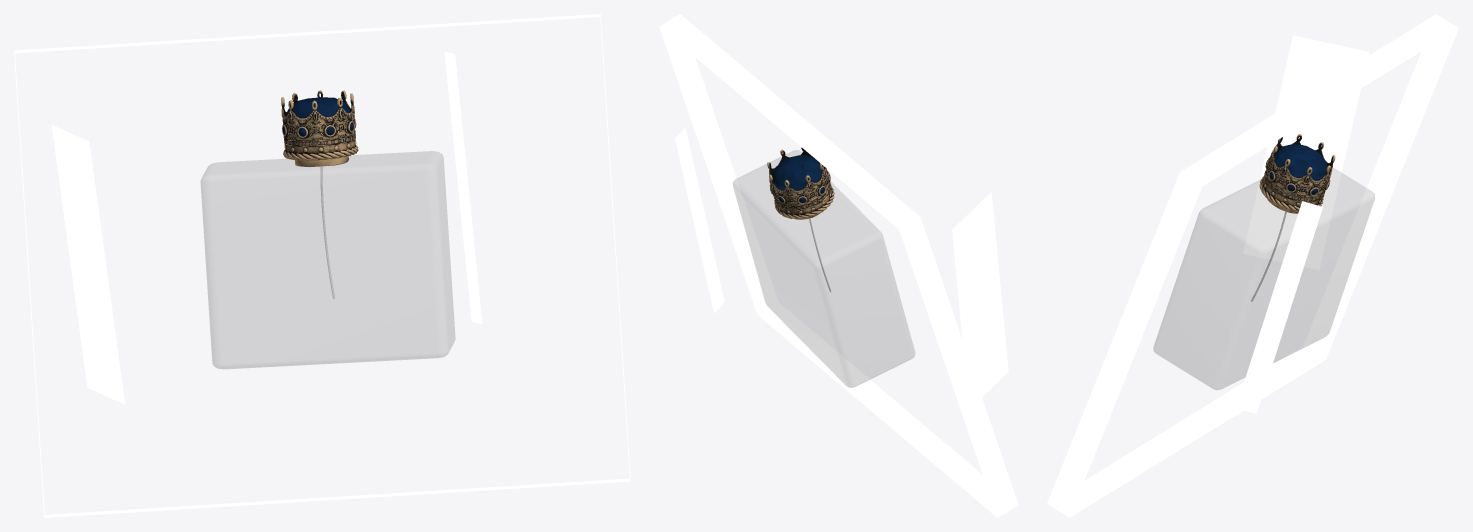
Rendered from perfume.glb.
3 views of the same model, side by side, from view 1: azimuth 30°, elevation 25°; view 2: azimuth 150°, elevation 25°; view 3: azimuth 270°, elevation 25° (orthographic). The views are drawn at different scales.
Parts seen in each view (by area): view 1: Bottle, LeftRimLight, RimLight, Head, LeftRimLight.002; view 2: RimLight, Bottle, LeftRimLight, Head, LeftRimLight.002; view 3: RimLight, Bottle, LeftRimLight, LeftRimLight.002, Head.
Boxes of the visible parts, bbox=[...] form: Bottle: bbox=[201, 151, 455, 368]; LeftRimLight: bbox=[51, 125, 125, 404]; RimLight: bbox=[14, 14, 630, 517]; Head: bbox=[281, 90, 358, 167]; LeftRimLight.002: bbox=[444, 51, 482, 324]; RimLight: bbox=[659, 14, 1018, 517]; Bottle: bbox=[733, 150, 914, 387]; LeftRimLight: bbox=[952, 192, 1008, 397]; Head: bbox=[767, 147, 834, 219]; LeftRimLight.002: bbox=[675, 127, 724, 313]; RimLight: bbox=[1047, 14, 1458, 517]; Bottle: bbox=[1153, 168, 1374, 389]; LeftRimLight: bbox=[1243, 35, 1369, 270]; LeftRimLight.002: bbox=[1236, 201, 1322, 413]; Head: bbox=[1259, 134, 1335, 213].
Size of the model in its own units: 7.13 by 6.05 by 5.78.
Materials: 5 (2 with a texture image).
